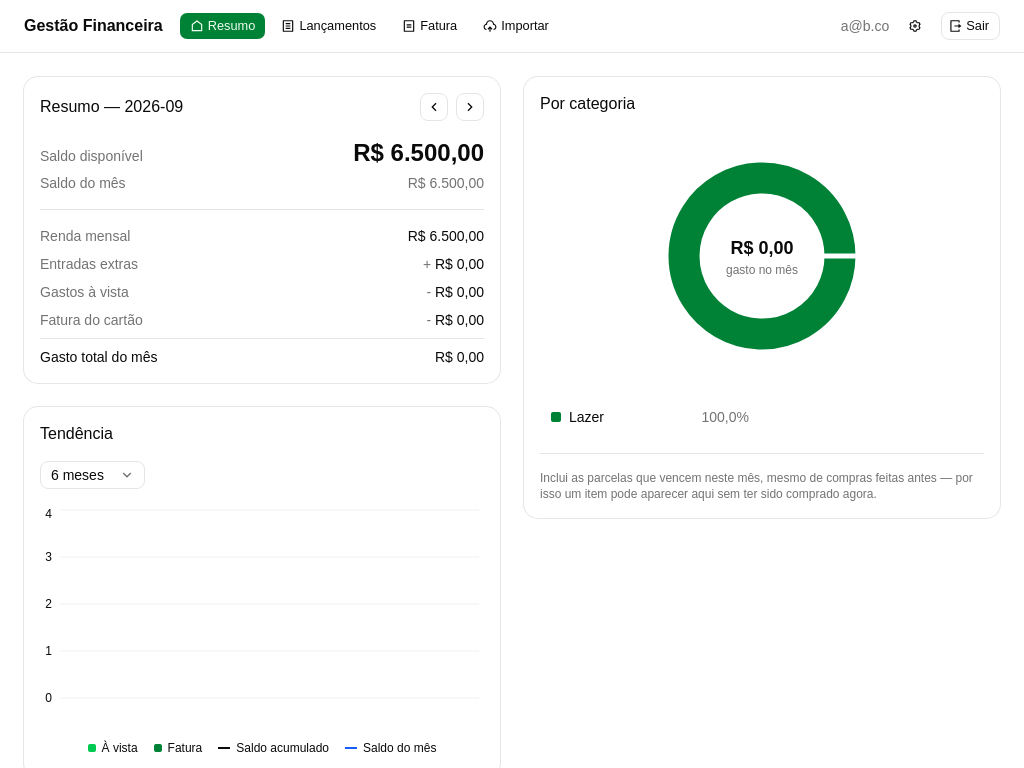
Test: SummaryScreen › clicar na categoria abre o popup com o total e as transações
Click the button "Lazer 100,0%": (650, 417) [540,401,760,433]
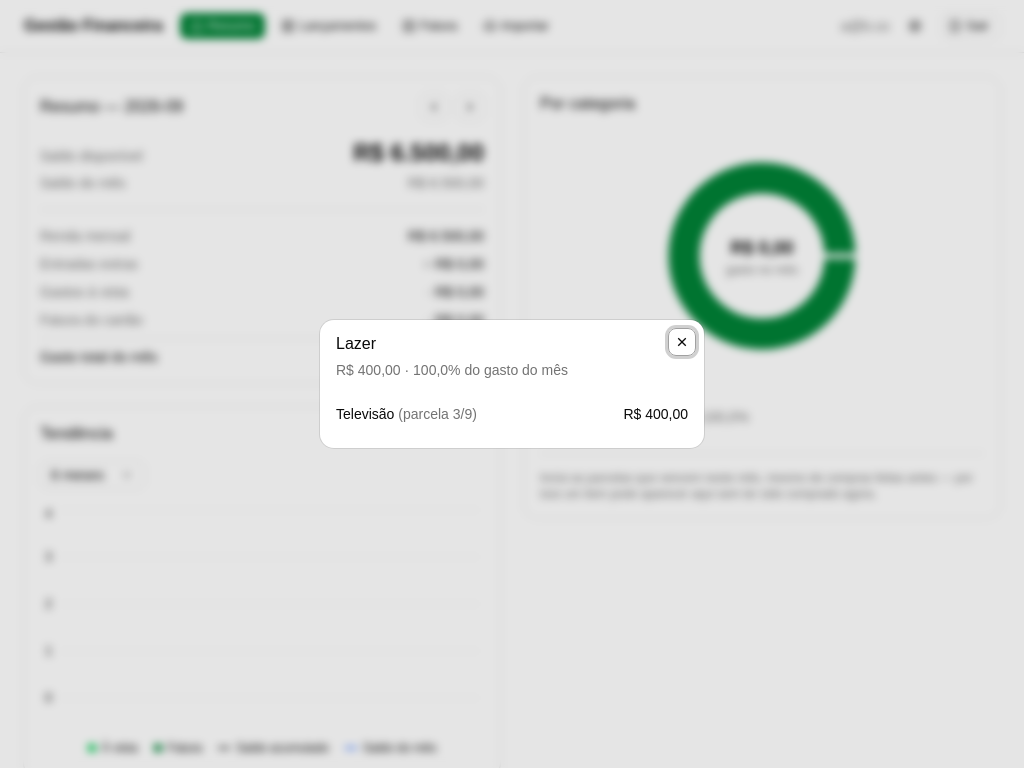
Expected: the dialog "Lazer" shows "R$ 400,00 · 100,0% do gasto do mês", [320,320,704,448]
Expected: the list item "Televisão (parcela 3/9) R$ 400,00" is shown, [336,406,688,422]
Click the button named "Fechar": (682, 342) [668,328,696,356]
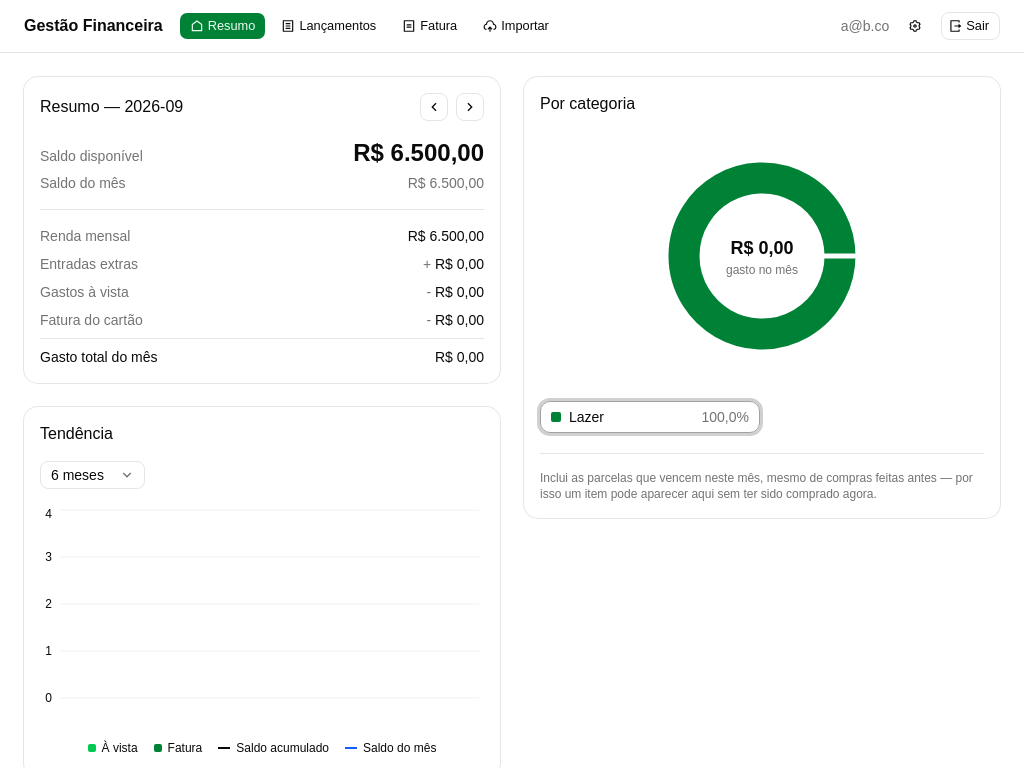
Expected: the dialog is gone
